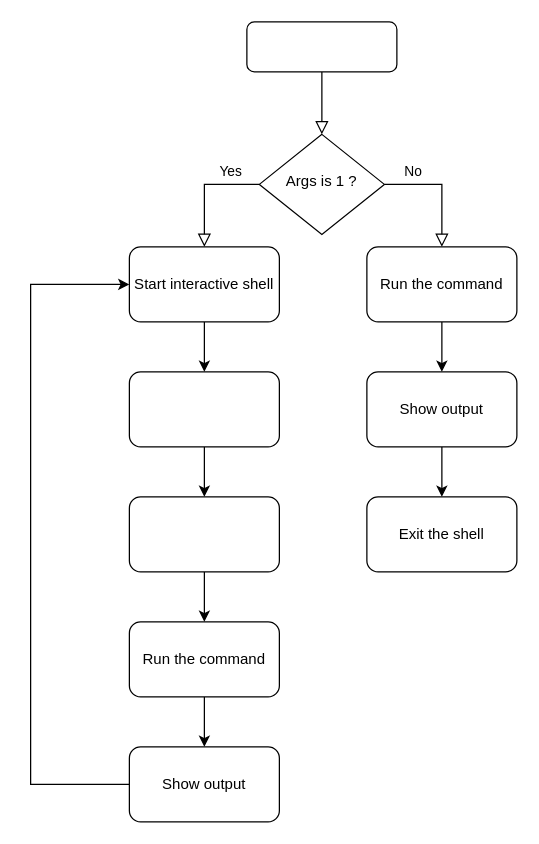
Image size: 539x844. Some labels were removed from this diagram. The box of each missing label's shape, as (x1, y1, x2, y2) in pixels:
Print the prompt: (128, 371, 279, 447)
Shell start: (246, 21, 397, 72)
Take the command: (128, 496, 279, 572)
